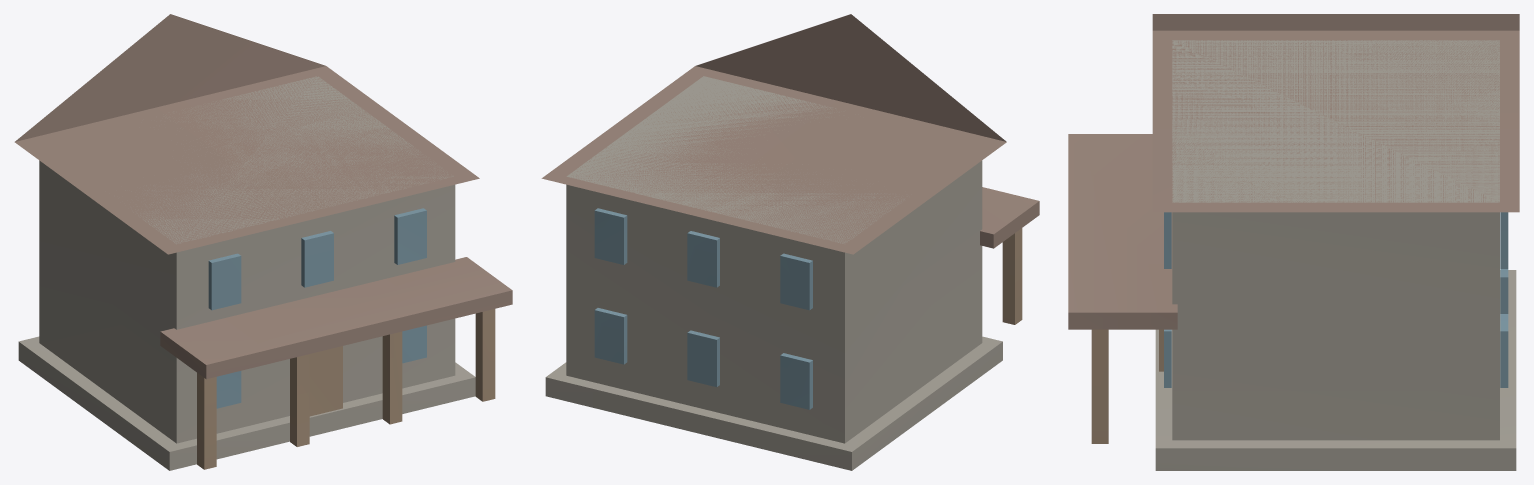
File: market-05.glb
3 renders of one model, left to right at view 1: azimuth 30°, elevation 25°; view 2: azimuth 150°, elevation 25°; view 3: azimuth 270°, elevation 25°, orthographic. The views are drawn at different scales.
Visible parts, largest first — view 1: world; view 2: world; view 3: world.
Boxes of the visible parts, <box> form: world: <box>14,14,512,470</box>; world: <box>541,14,1039,470</box>; world: <box>1068,14,1519,470</box>.
Size of the model in its own units: 1.38 by 1.3 by 1.45.
